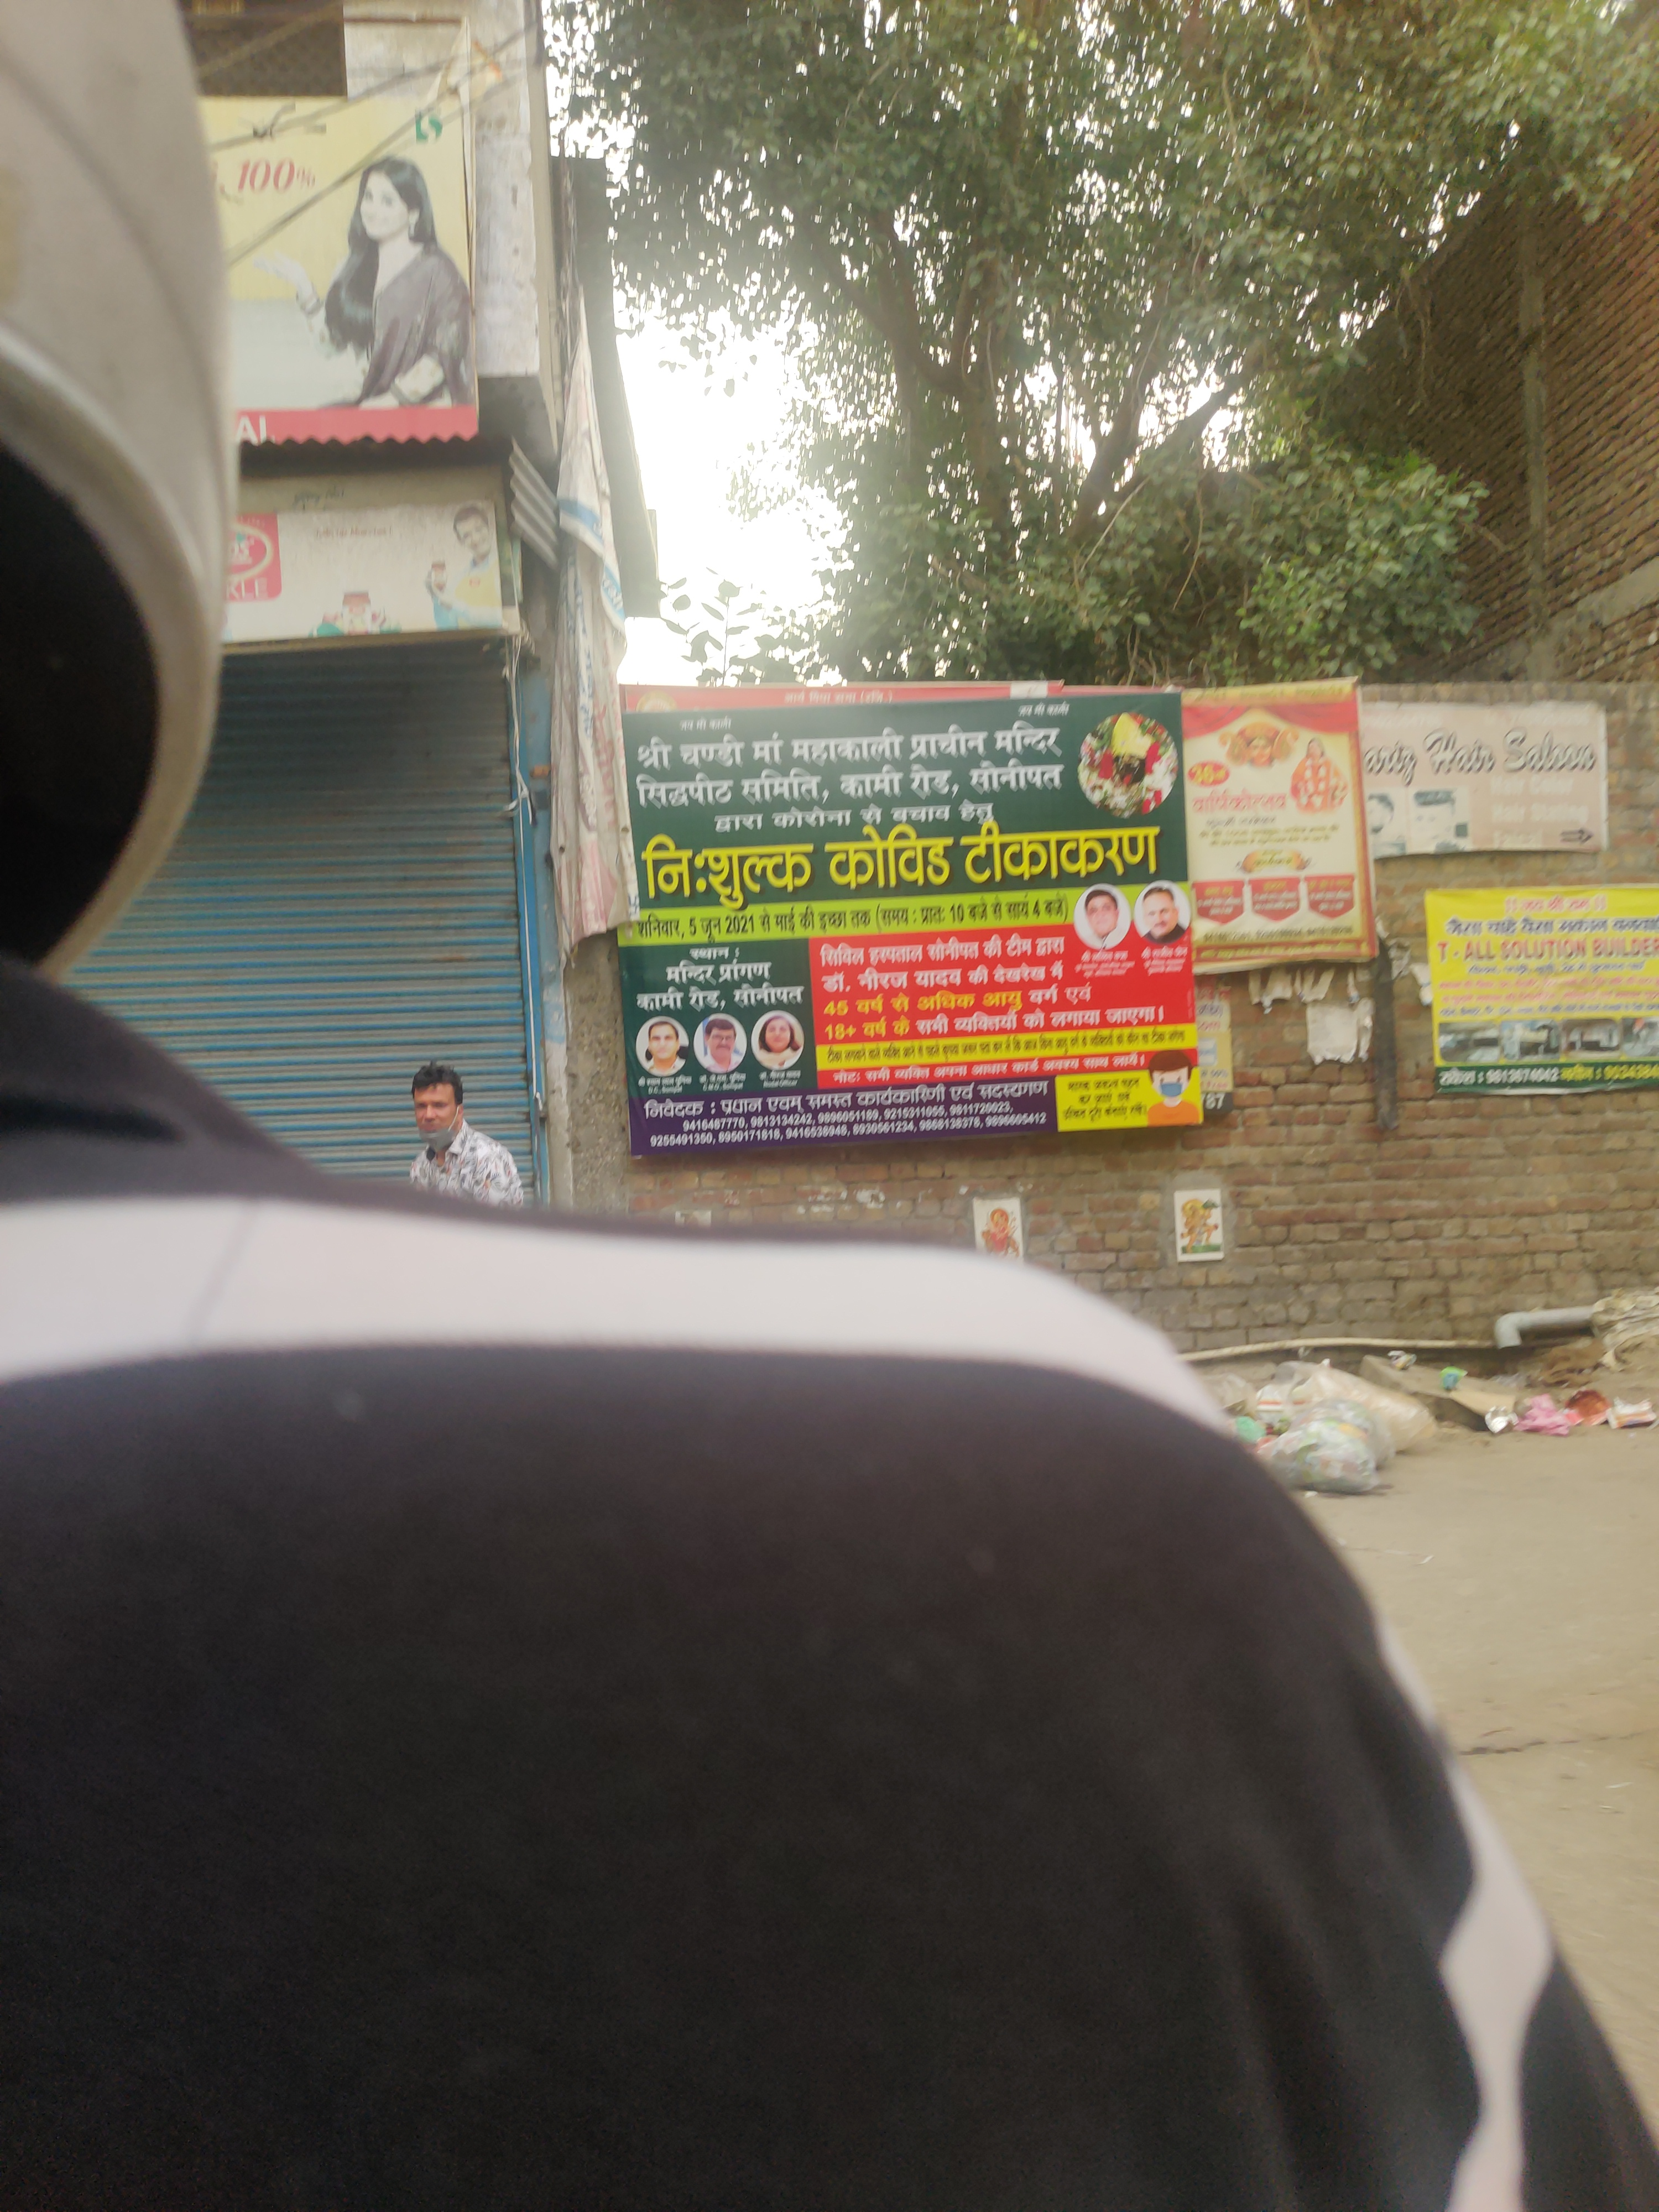text: (610, 690, 1201, 1155), (1188, 730, 1384, 975), (1429, 885, 1642, 1094), (1361, 732, 1614, 855)
